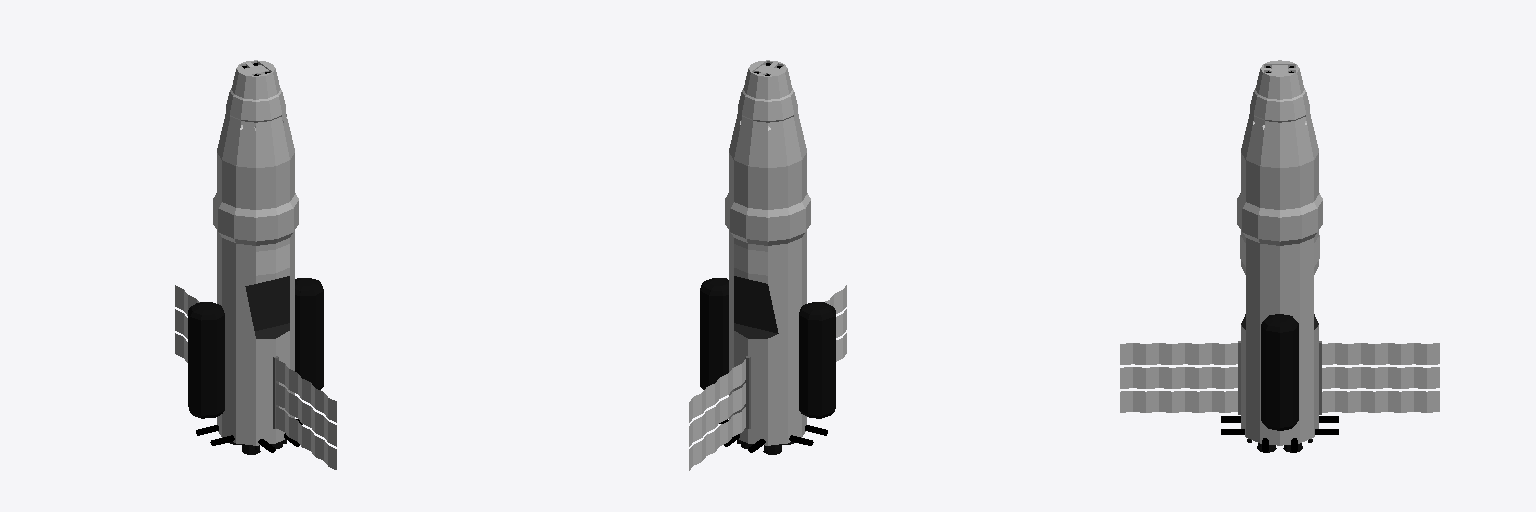
File: USS_YELLOWSTONE_PATROL.obj
3 views of the same model, side by side, from view 1: azimuth 30°, elevation 25°; view 2: azimuth 150°, elevation 25°; view 3: azimuth 270°, elevation 25° (orthographic).
Visible parts, largest first — view 1: Main_Hull, Fuel_Tanks.001, Fuel_Tanks, Plane.004, Plane.003, Plane.005, Flag.001; view 2: Main_Hull, Fuel_Tanks.001, Fuel_Tanks, Plane.001, Plane, Plane.002, Flag; view 3: Main_Hull, Fuel_Tanks, Plane, Plane.002, Plane.004, Plane.005, Plane.001, Plane.003.
Boxes of the visible parts, x1=… form: Main_Hull: x1=213, y1=60, x2=298, y2=445; Fuel_Tanks.001: x1=188, y1=302, x2=224, y2=418; Fuel_Tanks: x1=295, y1=278, x2=323, y2=389; Plane.004: x1=276, y1=383, x2=336, y2=446; Plane.003: x1=276, y1=359, x2=336, y2=422; Plane.005: x1=276, y1=407, x2=336, y2=469; Flag.001: x1=256, y1=244, x2=289, y2=275; Main_Hull: x1=725, y1=60, x2=810, y2=445; Fuel_Tanks.001: x1=799, y1=302, x2=835, y2=418; Fuel_Tanks: x1=700, y1=278, x2=728, y2=389; Plane.001: x1=689, y1=383, x2=745, y2=446; Plane: x1=689, y1=359, x2=745, y2=422; Plane.002: x1=689, y1=407, x2=745, y2=470; Flag: x1=734, y1=244, x2=767, y2=275; Main_Hull: x1=1237, y1=60, x2=1322, y2=445; Fuel_Tanks: x1=1261, y1=314, x2=1298, y2=430; Plane: x1=1322, y1=343, x2=1439, y2=364; Plane.002: x1=1322, y1=391, x2=1439, y2=412; Plane.004: x1=1120, y1=367, x2=1237, y2=388; Plane.005: x1=1120, y1=391, x2=1237, y2=412; Plane.001: x1=1322, y1=367, x2=1439, y2=388; Plane.003: x1=1120, y1=343, x2=1237, y2=364.
Bounding box in the file's own units: 11.65 × 31.5 × 24.4.